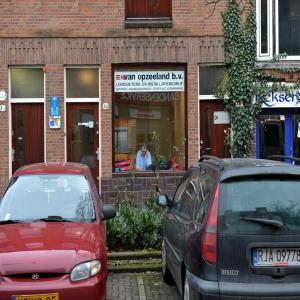Vehicle-registration-plate: (253, 249, 300, 267), (13, 292, 58, 300)
